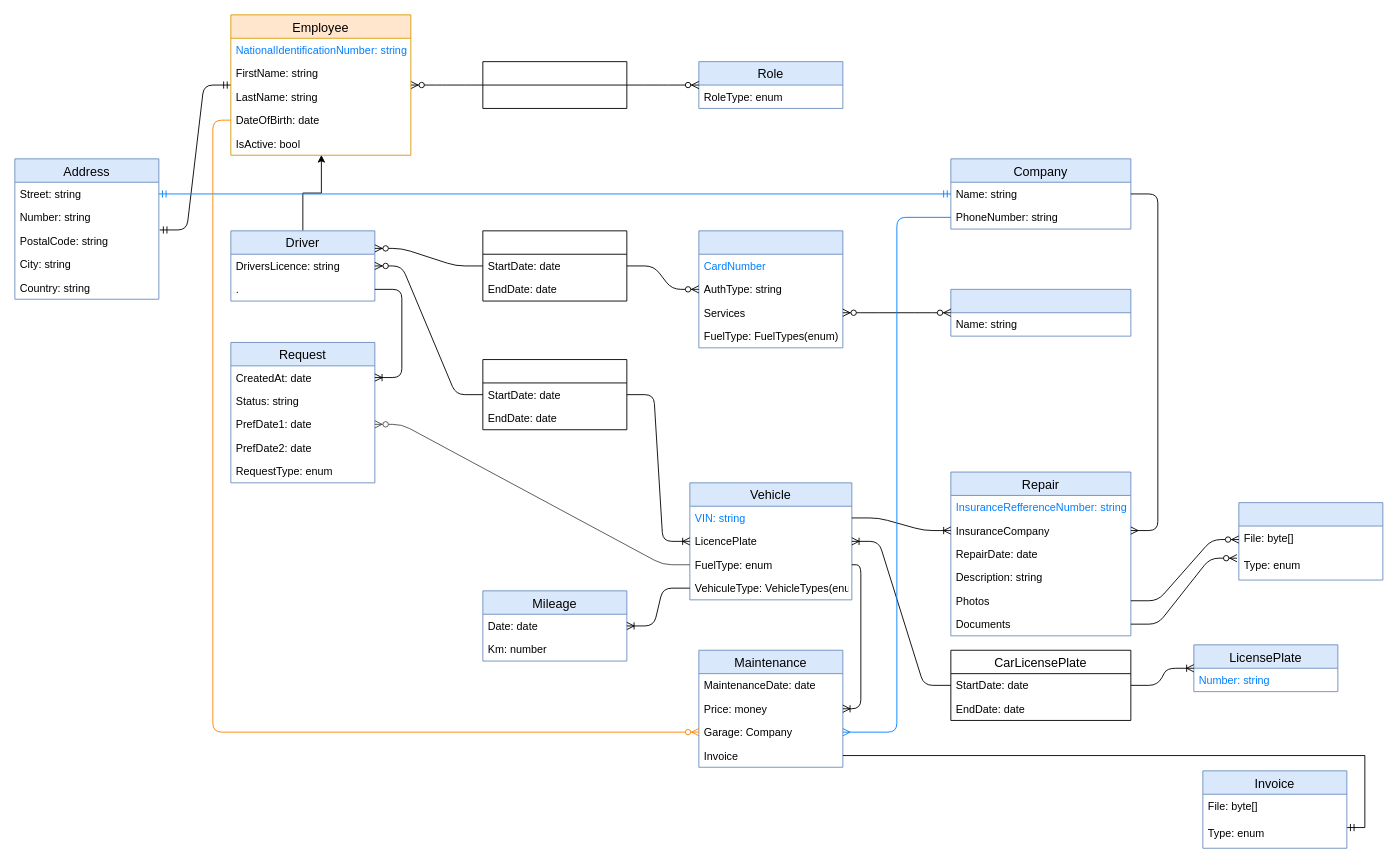
This 1398x863 diagram has some shape labels left out. Each missing label, with the box of its shape:
Attachment: (1238, 502, 1383, 580)
DriverFuelcard: (482, 230, 627, 301)
DriverVehicle: (482, 359, 627, 430)
EmployeeRole: (482, 61, 627, 108)
Fuelcard: (698, 230, 843, 348)
FuelcardServices: (950, 288, 1131, 336)
